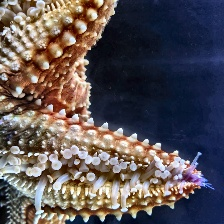starfish: (0, 122, 208, 223)
